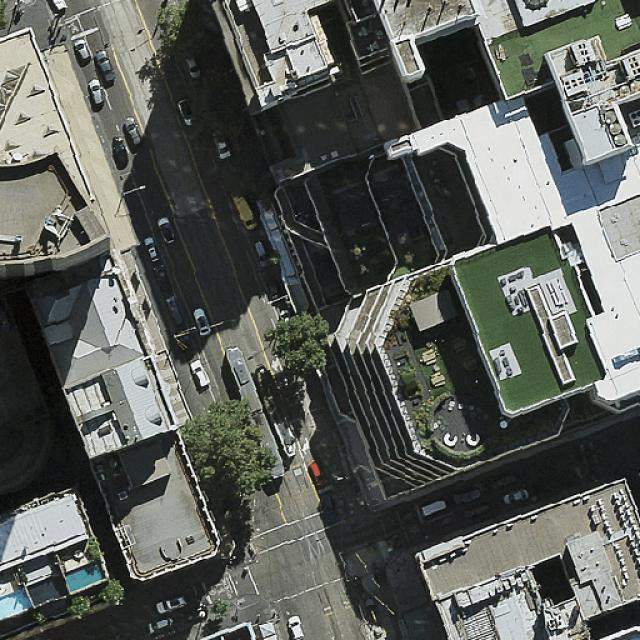Bike-Symbols: (65, 22, 82, 34)
